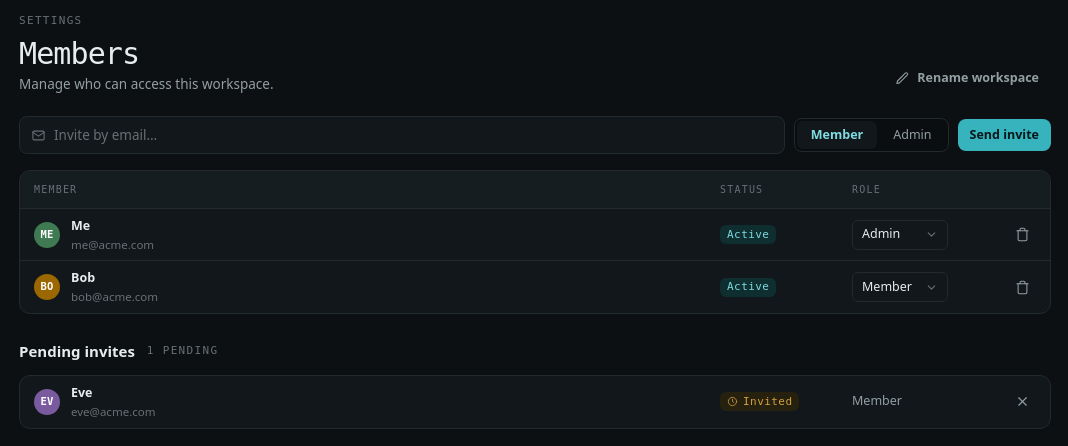
Test: workspaces-ui S-003 — members screen › AS-008: the admin invites a member by email
The image size is (1068, 446).
Expected: the element with test id "member-row-u-bob" is shown, 20,261 -> 1050,313
Type "dev@acme.com" into the field with test id "invite-email".
click(413, 135); type("dev@acme.com")  # box 54,125 -> 773,145
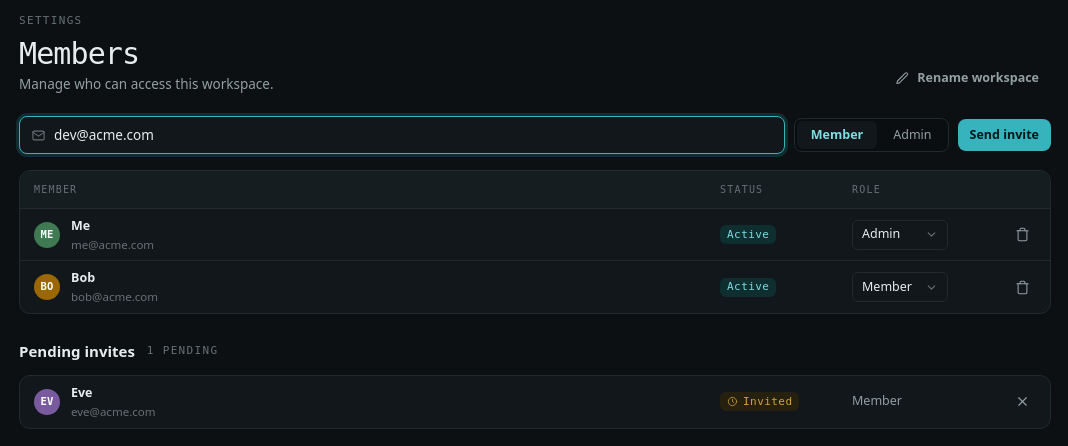
Click the button with test id "invite-submit".
click(1004, 135)  # box 958,119 -> 1051,151
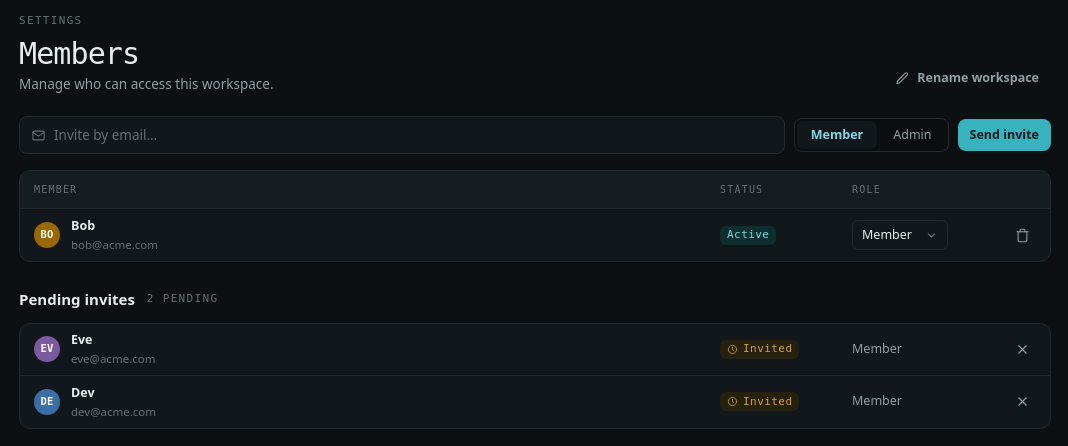
Now the element with test id "invite-row-inv-dev" is shown, box 20,376 -> 1050,428
